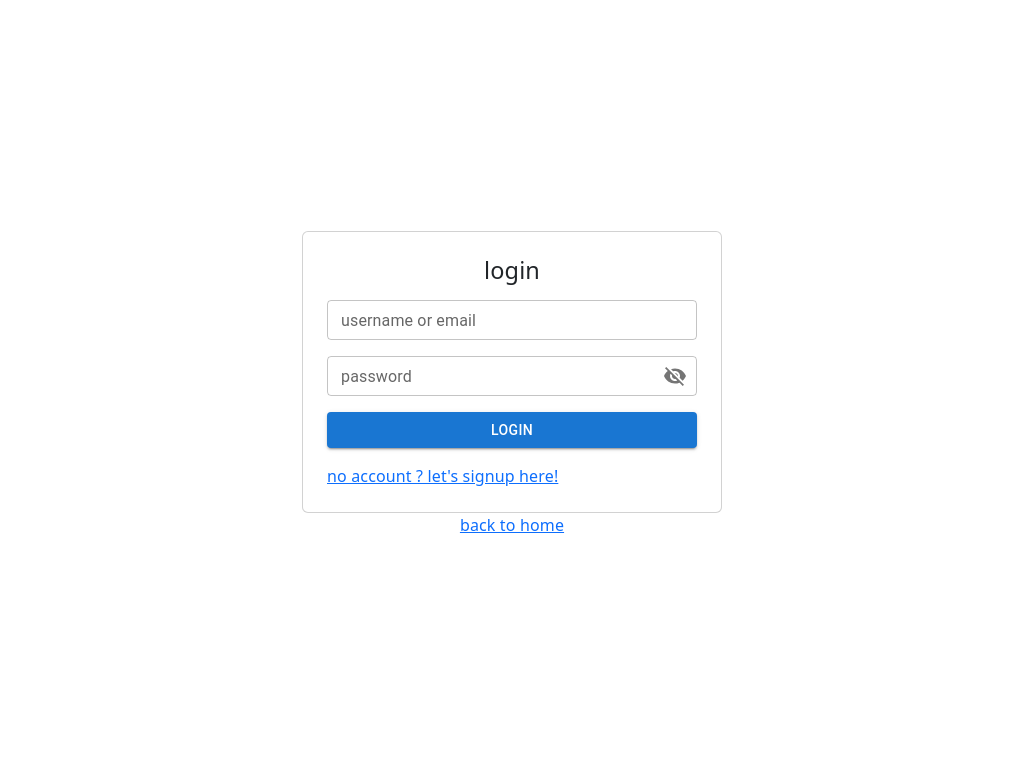
login page › shows error modal when login fails
Type "john@example.com" into the field labelled "username or email" at (512, 320), box [327,300,697,340]
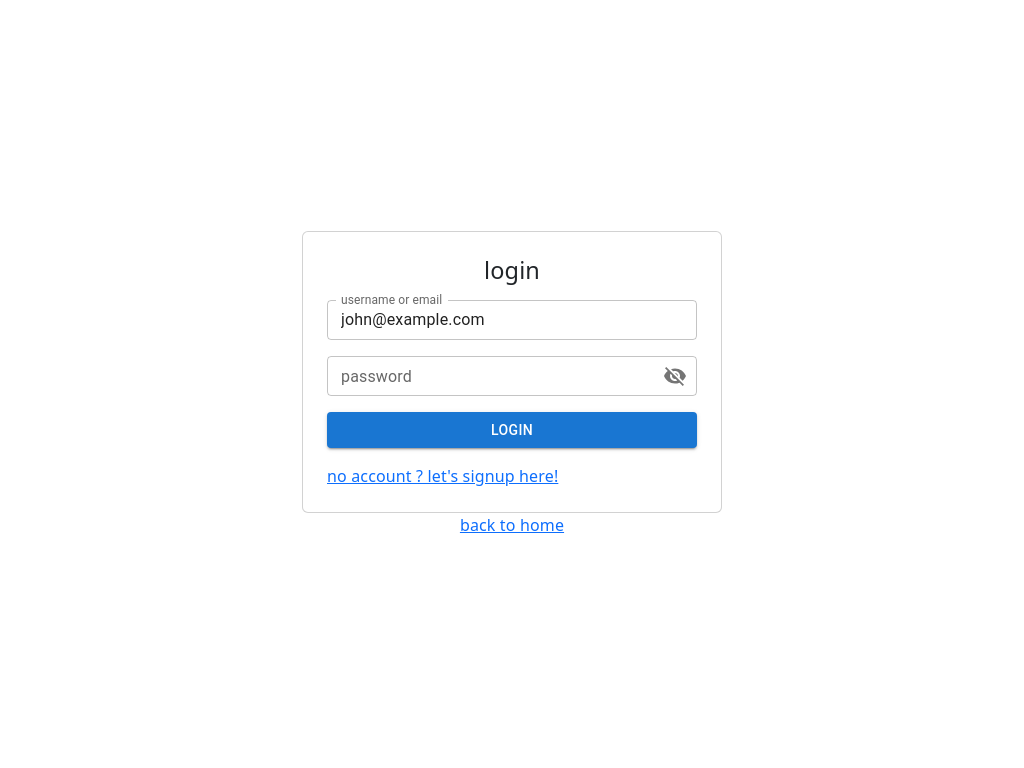
Type "1234567890" into the password field labelled "password" at (487, 376), box [327,356,647,396]
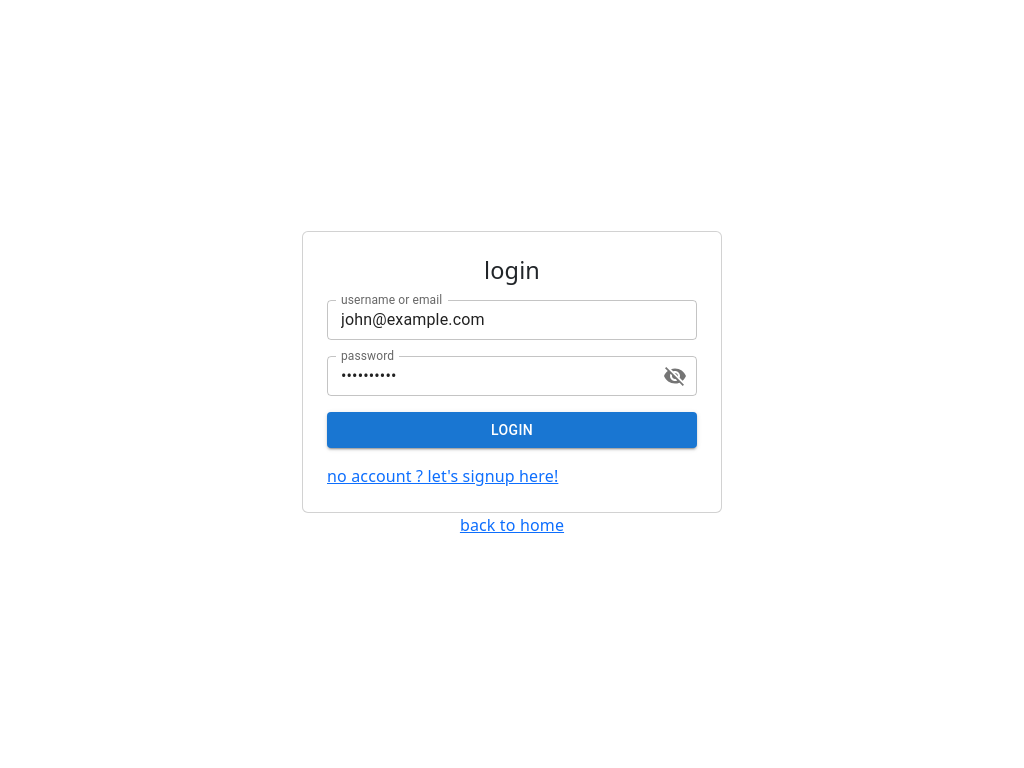
Click the button "login" at (512, 430), box [327,412,697,448]
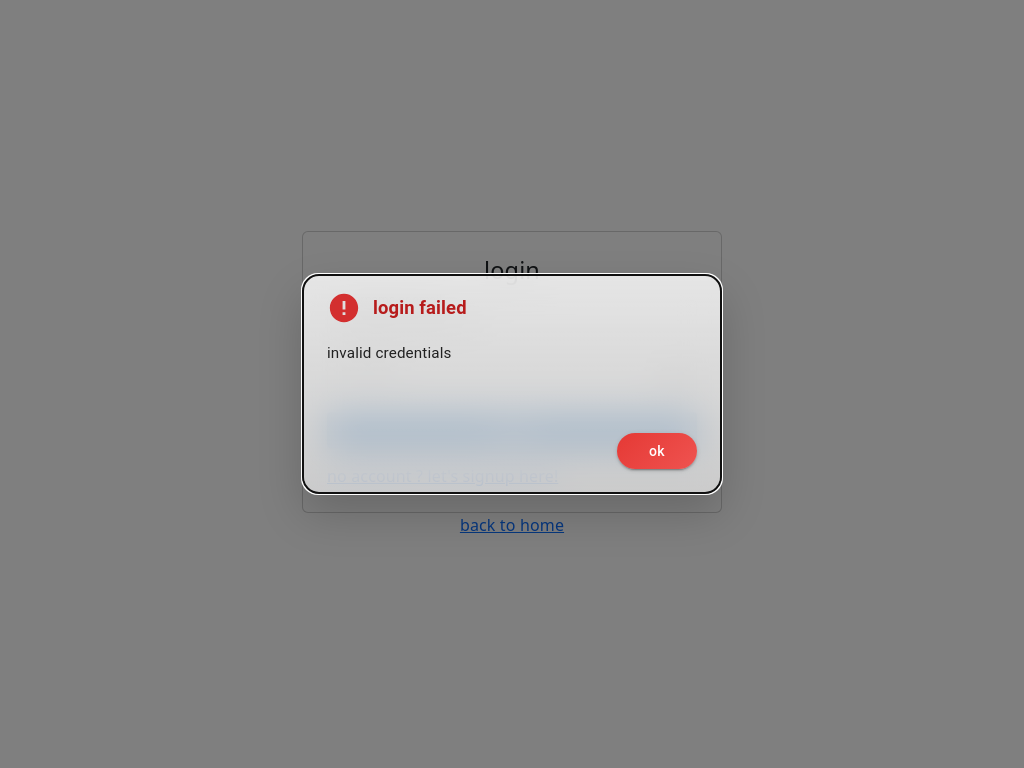
Expected: the heading "login failed" is shown, [327,291,467,325]
Expected: the text "invalid credentials" is shown, [327,344,452,362]
